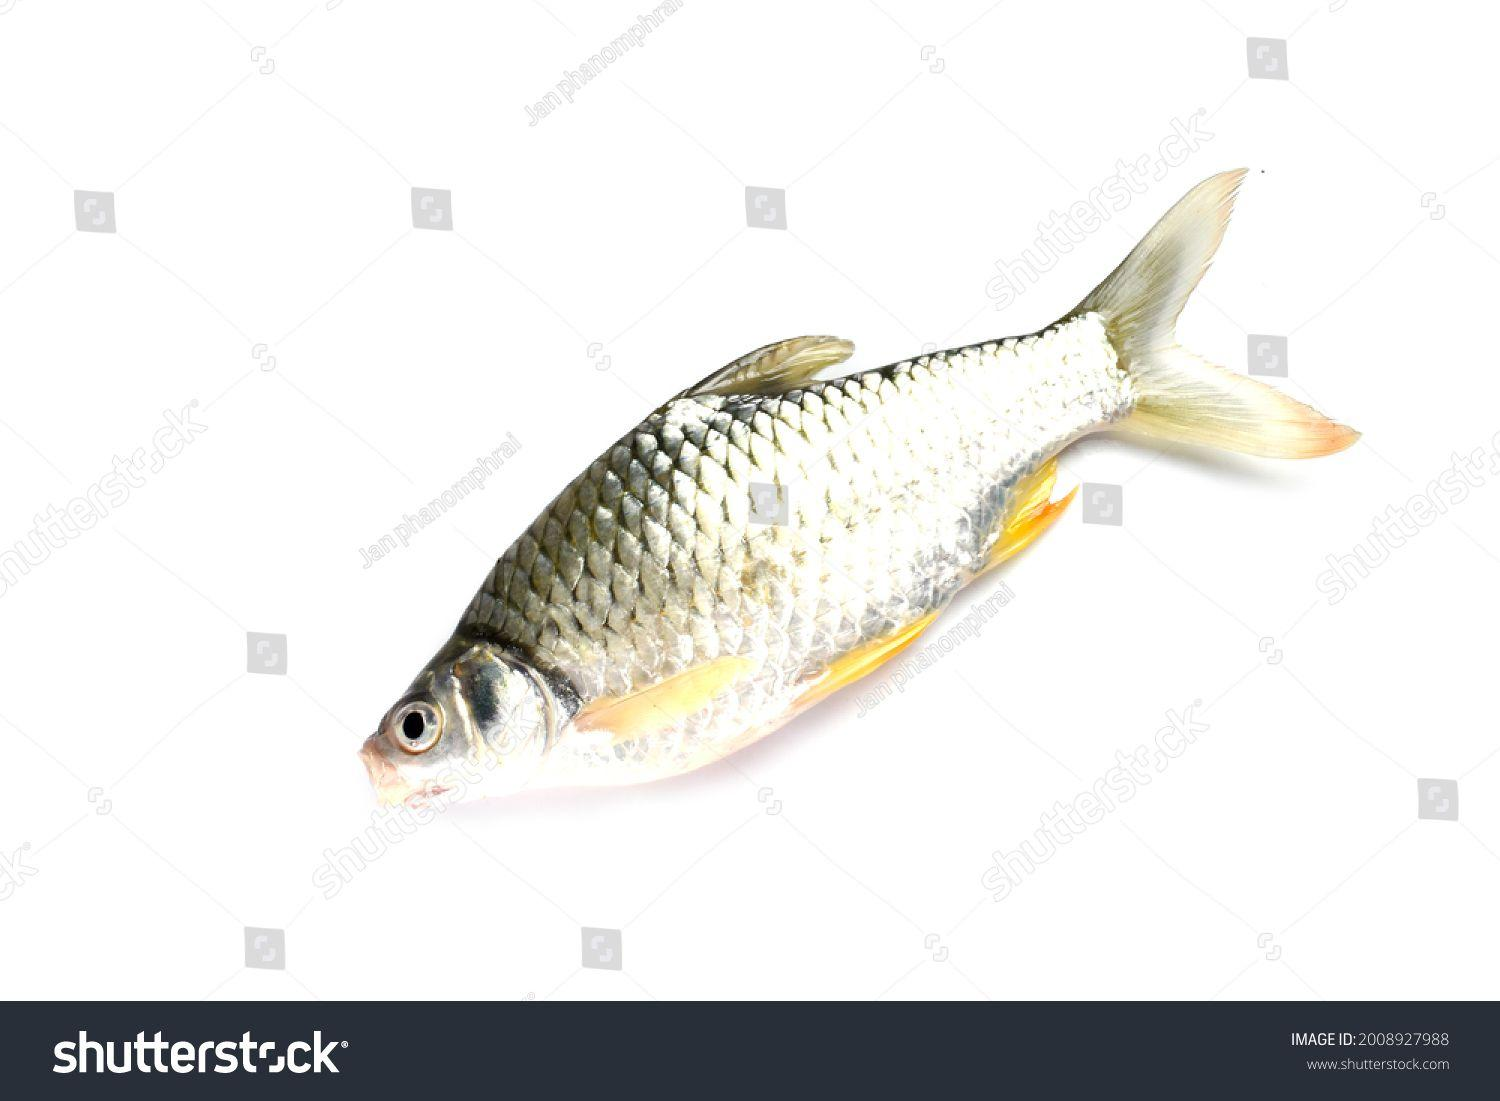Silver Barb: (368, 157, 1365, 853)
